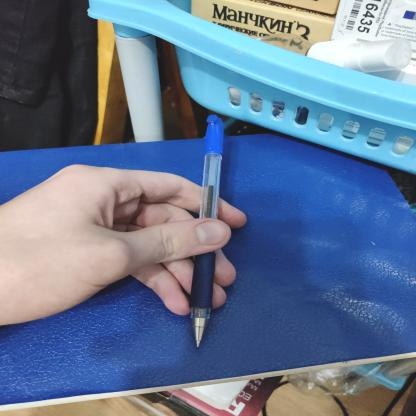pen: (183, 110, 232, 354)
